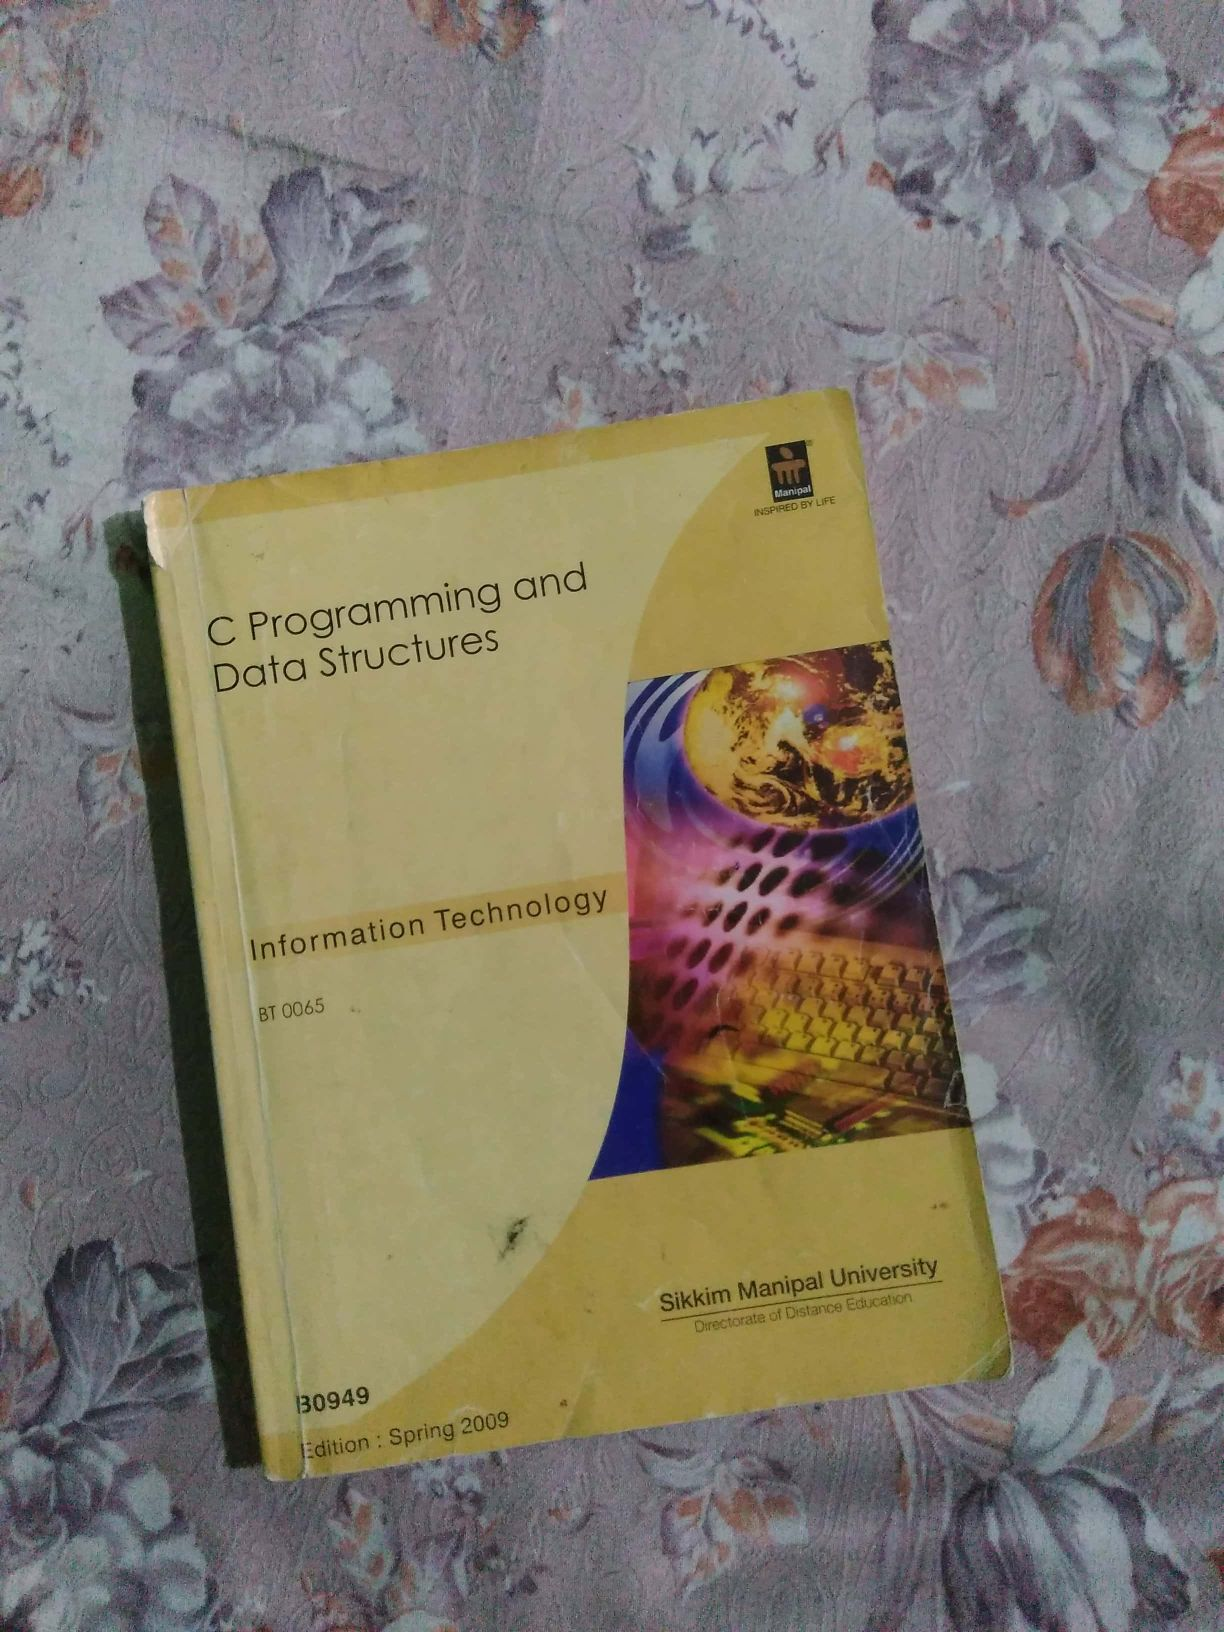clang: (114, 418, 1063, 1482)
